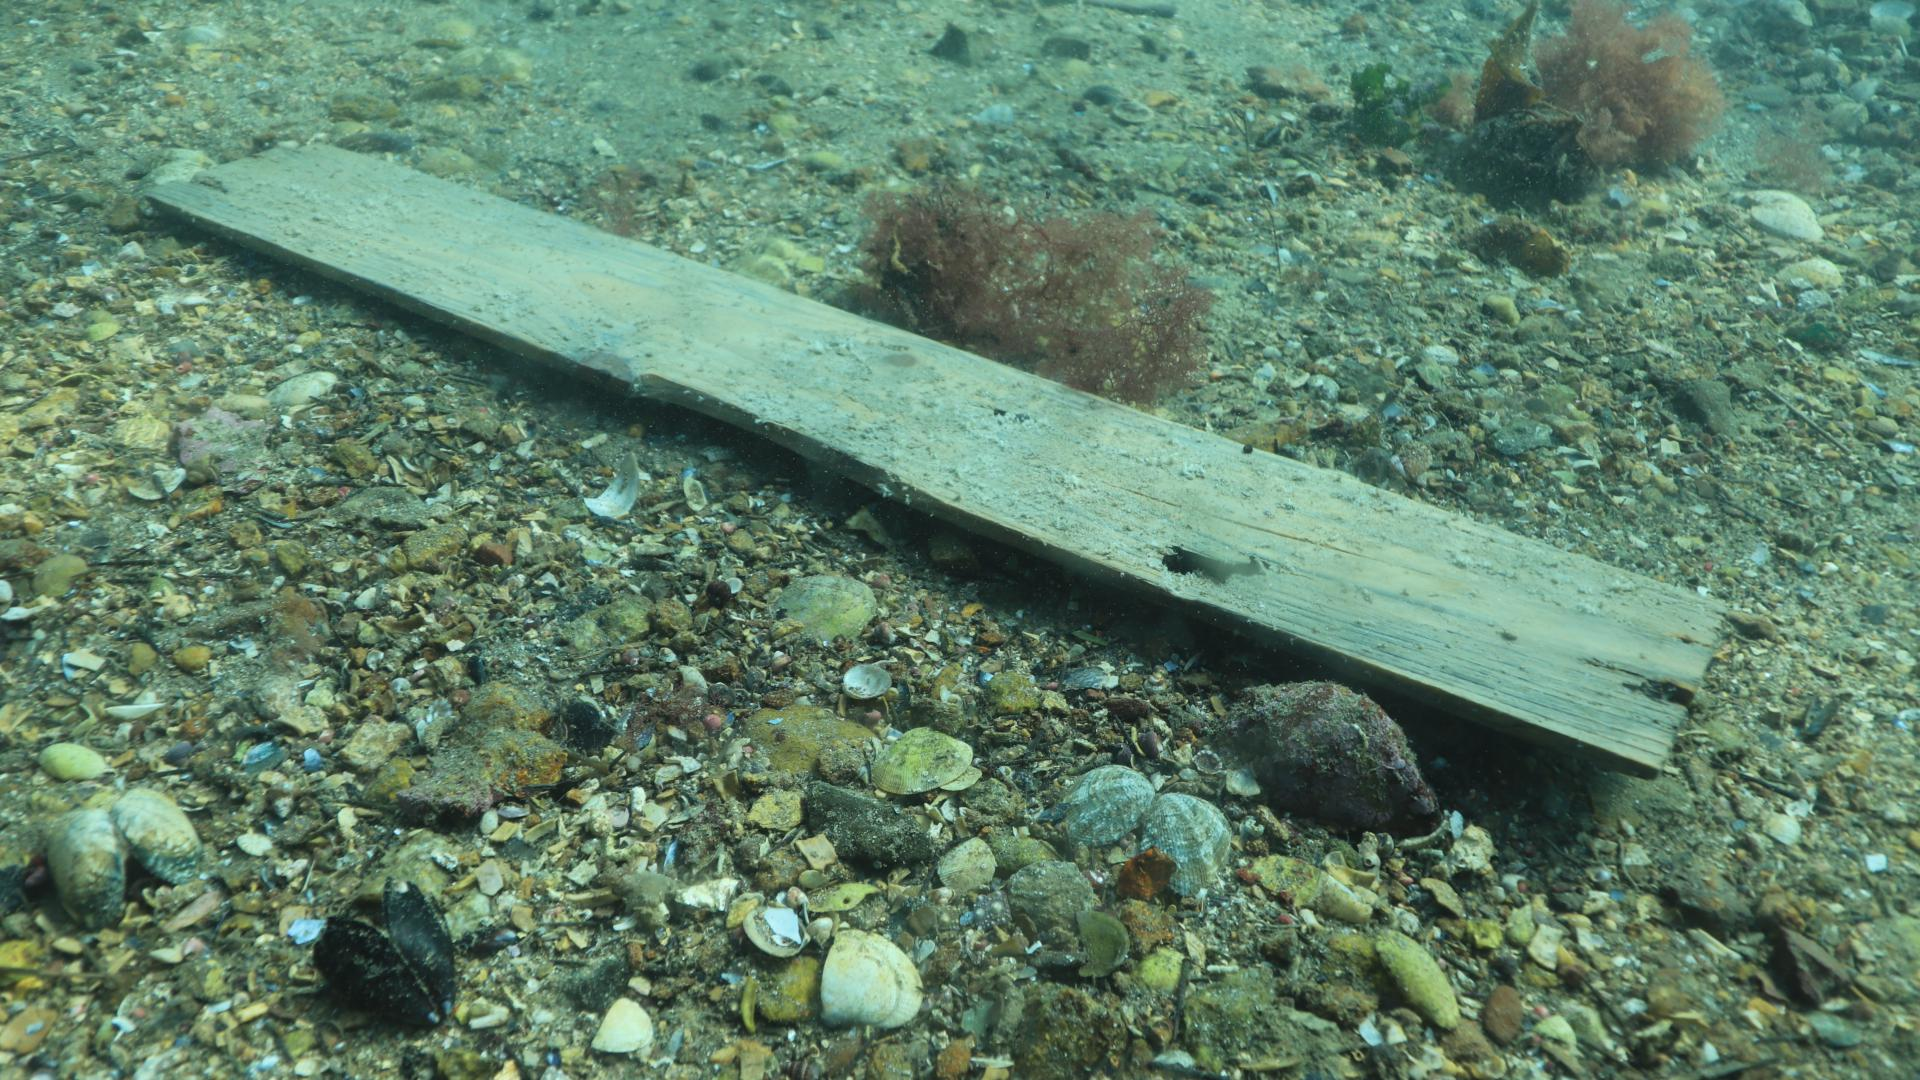wood: (138, 141, 1730, 777)
